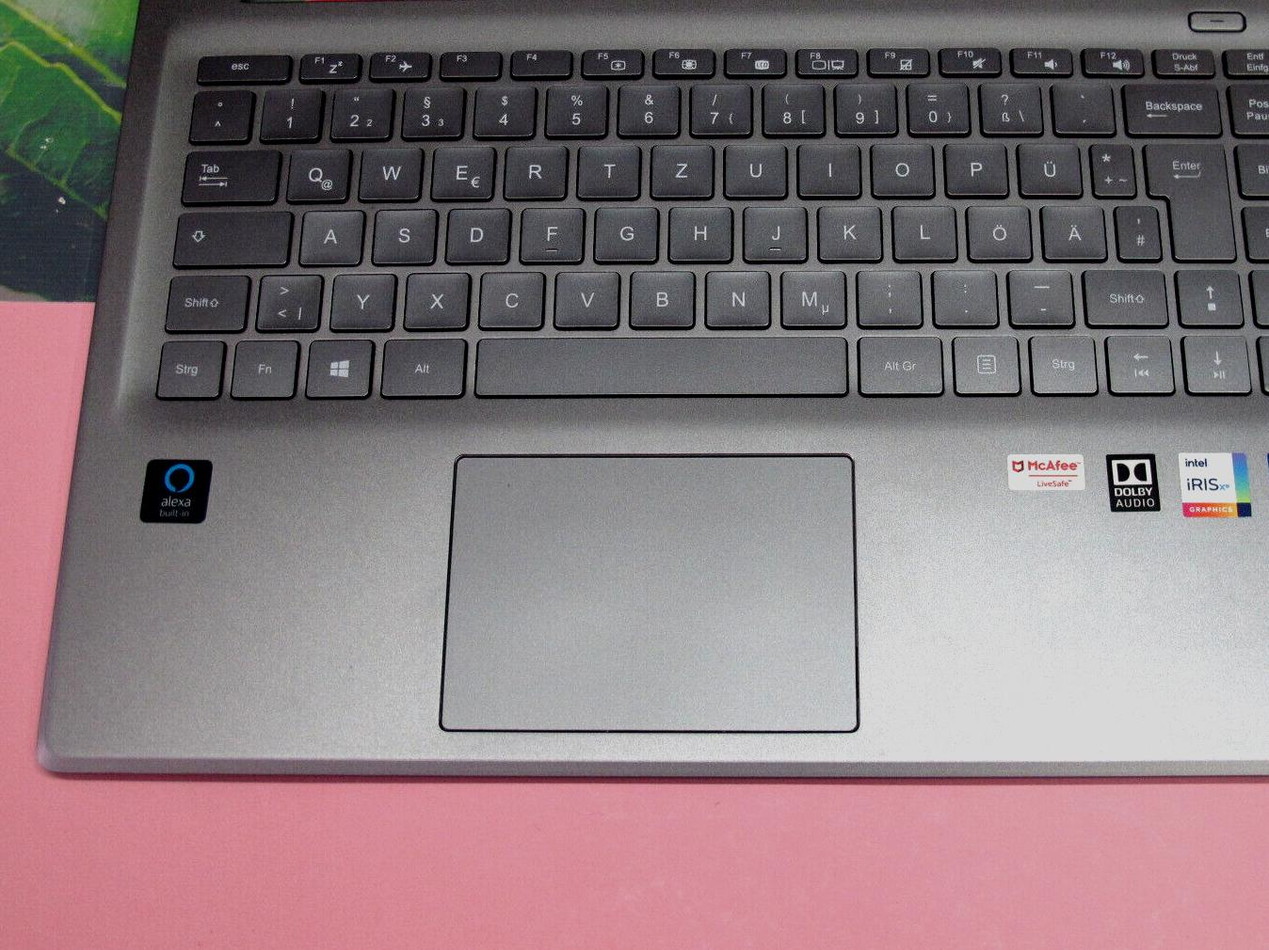0: (901, 77, 968, 133)
1: (256, 83, 321, 139)
2: (326, 83, 391, 138)
3: (395, 80, 461, 136)
4: (470, 80, 534, 135)
5: (541, 80, 606, 135)
6: (615, 79, 679, 134)
7: (685, 78, 749, 134)
8: (758, 77, 822, 134)
9: (829, 77, 894, 133)
a: (295, 205, 361, 263)
accent: (1048, 76, 1112, 133)
ae: (1036, 199, 1104, 260)
alt-left: (376, 333, 465, 397)
altgr-right: (853, 330, 942, 394)
b: (625, 265, 695, 325)
c: (474, 266, 542, 327)
caret: (185, 86, 250, 140)
comma: (851, 264, 921, 325)
d: (441, 203, 507, 262)
del: (1118, 78, 1220, 134)
e: (426, 140, 492, 198)
enter: (1141, 135, 1231, 259)
f: (516, 202, 582, 261)
g: (589, 201, 657, 261)
h: (665, 200, 731, 261)
hash: (1111, 200, 1159, 259)
i: (794, 137, 859, 195)
j: (740, 200, 805, 261)
k: (813, 200, 881, 260)
keyboard: (135, 12, 1269, 415)
l: (888, 200, 955, 260)
less: (251, 268, 320, 329)
m: (775, 264, 845, 325)
minus: (1004, 263, 1072, 323)
n: (700, 265, 769, 326)
o: (866, 138, 933, 196)
oe: (962, 200, 1030, 259)
p: (940, 137, 1006, 194)
plus: (1085, 138, 1133, 196)
point: (927, 264, 997, 324)
q: (281, 144, 348, 200)
r: (499, 139, 566, 198)
s: (367, 204, 434, 262)
shift-left: (159, 268, 248, 331)
shift-lock: (168, 204, 290, 265)
shift-right: (1078, 264, 1166, 325)
space: (471, 332, 845, 397)
ss: (974, 77, 1040, 133)
strg-left: (152, 335, 224, 398)
strg-right: (1024, 330, 1097, 394)
t: (573, 138, 638, 197)
tab: (176, 144, 278, 202)
u: (719, 139, 786, 197)
ue: (1013, 138, 1080, 194)
v: (549, 266, 618, 326)
w: (354, 140, 420, 198)
x: (400, 267, 468, 328)
y: (326, 268, 394, 328)
z: (647, 139, 712, 197)
